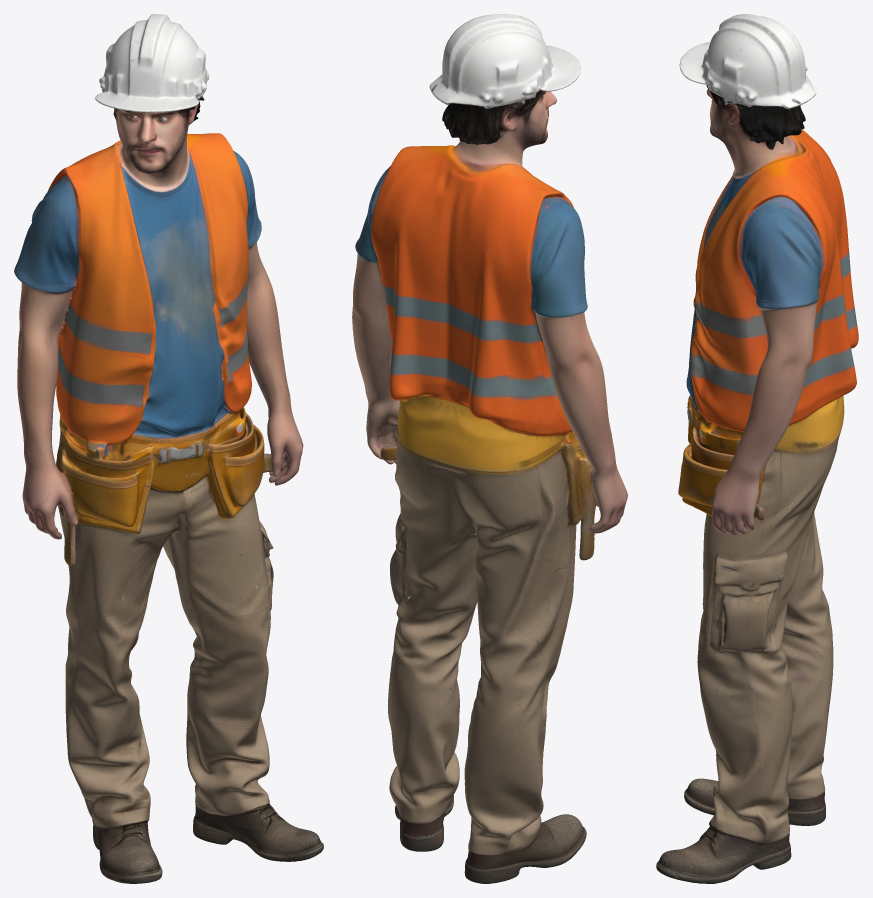
File: construction_worker_in_orange_safety_vest.glb
3 renders of one model, left to right at view 1: azimuth 30°, elevation 25°; view 2: azimuth 150°, elevation 25°; view 3: azimuth 270°, elevation 25°, orthographic. The views are drawn at different scales.
Visible parts, largest first — view 1: Object_5, Object_6, Object_7; view 2: Object_6, Object_5, Object_7; view 3: Object_6, Object_5, Object_7.
Boxes of the visible parts, x1=… form: Object_5: x1=23, y1=14, x2=323, y2=883; Object_6: x1=14, y1=14, x2=284, y2=869; Object_7: x1=19, y1=16, x2=290, y2=838; Object_6: x1=352, y1=15, x2=626, y2=883; Object_5: x1=362, y1=14, x2=627, y2=864; Object_7: x1=359, y1=14, x2=620, y2=842; Object_6: x1=715, y1=16, x2=858, y2=875; Object_5: x1=656, y1=14, x2=808, y2=883; Object_7: x1=703, y1=16, x2=790, y2=844.
Bounding box in the file's own units: 0.6187 × 1.9 × 0.4299.
1 material, 1 textured.
